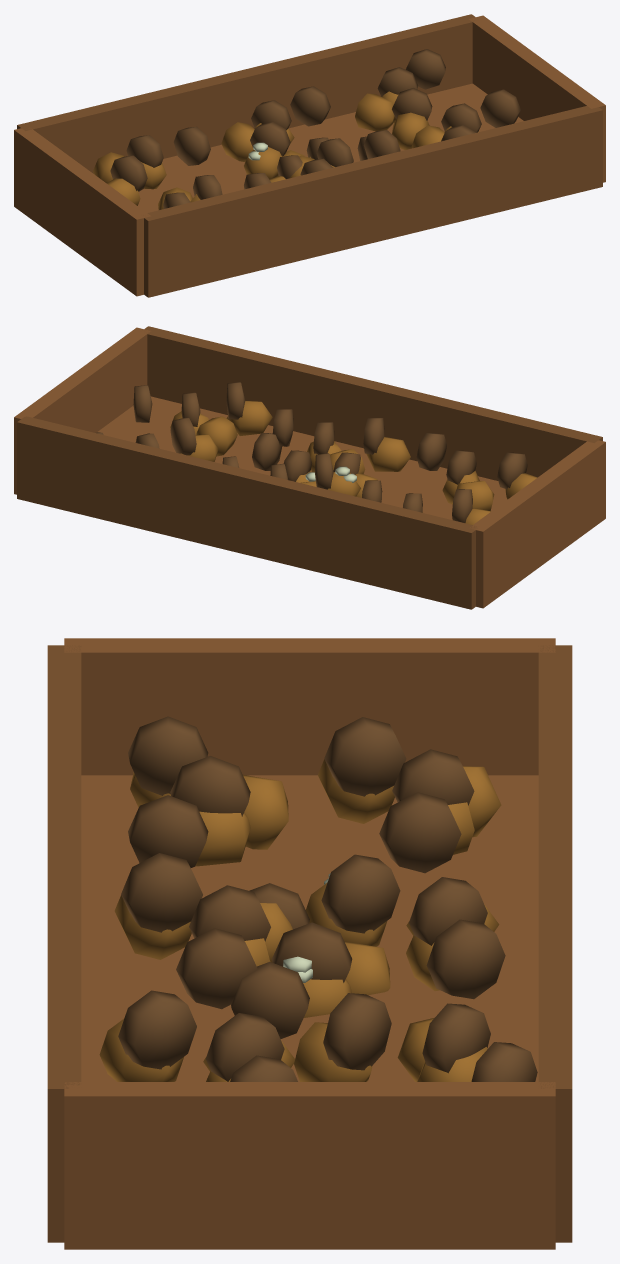
The model's file is Nut_Acorn.fbx.
3 renders of one model, top to bottom at view 1: azimuth 30°, elevation 25°; view 2: azimuth 150°, elevation 25°; view 3: azimuth 270°, elevation 25°, orthographic. The views are drawn at different scales.
Visible parts, largest first — view 1: Nut_Acorn__Stack, Nut_Acorn; view 2: Nut_Acorn__Stack, Nut_Acorn; view 3: Nut_Acorn__Stack, Nut_Acorn.
Part boxes in pixels (left/top/right/bottom): Nut_Acorn__Stack: left=14, top=14, right=605, bottom=297; Nut_Acorn: left=269, top=136, right=367, bottom=182; Nut_Acorn__Stack: left=14, top=326, right=605, bottom=609; Nut_Acorn: left=252, top=433, right=377, bottom=497; Nut_Acorn__Stack: left=47, top=638, right=572, bottom=1249; Nut_Acorn: left=231, top=883, right=390, bottom=1038.
Bounding box in the file's own units: 0.256 × 0.04 × 0.124.
